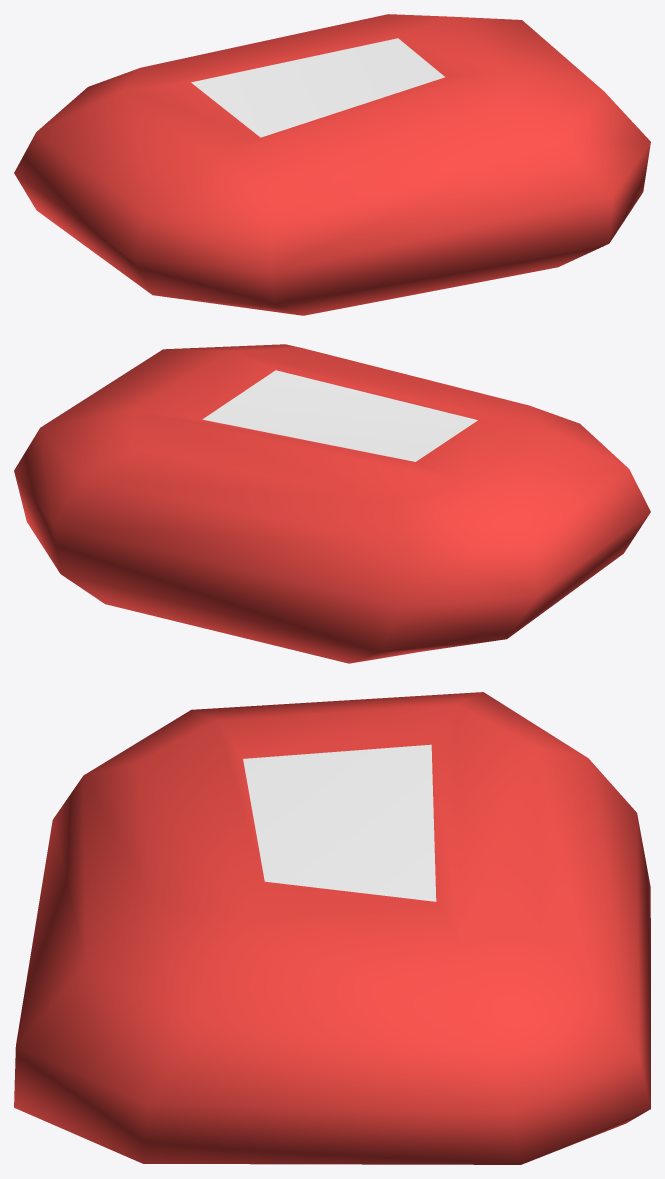
File: Props_Package_01.fbx
3 renders of one model, top to bottom at view 1: azimuth 30°, elevation 25°; view 2: azimuth 150°, elevation 25°; view 3: azimuth 270°, elevation 25°, orthographic. The views are drawn at different scales.
Parts seen in each view (by area): view 1: Props_Package_01; view 2: Props_Package_01; view 3: Props_Package_01.
Part boxes in pixels (left/top/right/bottom): Props_Package_01: left=14, top=14, right=650, bottom=315; Props_Package_01: left=14, top=344, right=650, bottom=663; Props_Package_01: left=14, top=692, right=650, bottom=1164.
Bounding box in the file's own units: 63.85 × 18.36 × 47.65.
